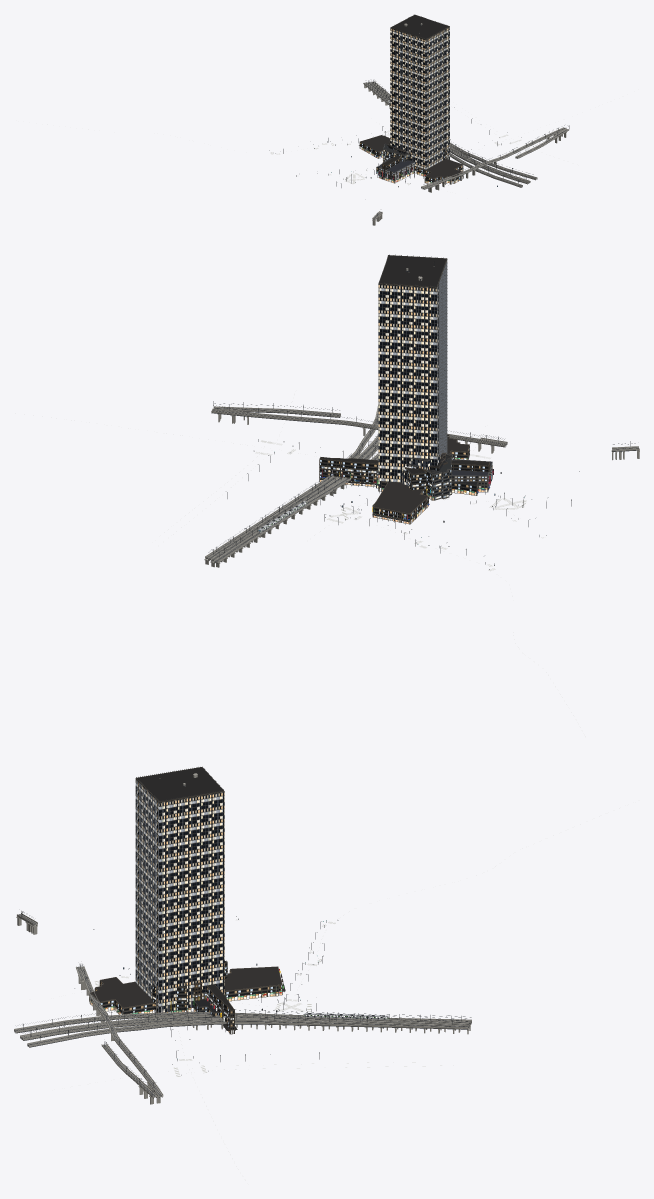
Rendered from shibuya.glb.
The picture shows the model from 3 angles, top to bottom: view 1: azimuth 30°, elevation 25°; view 2: azimuth 150°, elevation 25°; view 3: azimuth 270°, elevation 25°; orthographic projection. The views are drawn at different scales.
Parts seen in each view (by area): view 1: sbb_617560918, sb_rail, sbb_904652357, sbb_87250190; view 2: sbb_617560918, sb_rail, sbb_904652357, sbb_904734439, sbb_55895868, sb_marks, sbb_87250190; view 3: sbb_617560918, sb_rail, sbb_904652357, sbb_904734439.
Boxes of the visible parts, x1=… form: sbb_617560918: x1=390, y1=14, x2=449, y2=169; sb_rail: x1=363, y1=80, x2=569, y2=225; sbb_904652357: x1=359, y1=135, x2=463, y2=184; sbb_87250190: x1=377, y1=158, x2=414, y2=183; sbb_617560918: x1=377, y1=254, x2=447, y2=491; sb_rail: x1=204, y1=401, x2=639, y2=567; sbb_904652357: x1=372, y1=434, x2=469, y2=524; sbb_904734439: x1=319, y1=457, x2=490, y2=487; sbb_55895868: x1=405, y1=453, x2=453, y2=500; sb_marks: x1=15, y1=394, x2=585, y2=736; sbb_87250190: x1=376, y1=459, x2=493, y2=492; sbb_617560918: x1=135, y1=766, x2=225, y2=1012; sb_rail: x1=14, y1=911, x2=471, y2=1104; sbb_904652357: x1=89, y1=966, x2=285, y2=1014; sbb_904734439: x1=206, y1=984, x2=237, y2=1034.
Size of the model in its own units: 880 by 236 by 605.
Materials: 23 (7 with a texture image).
